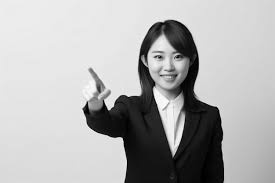pointing_gesture: (77, 64, 113, 103)
